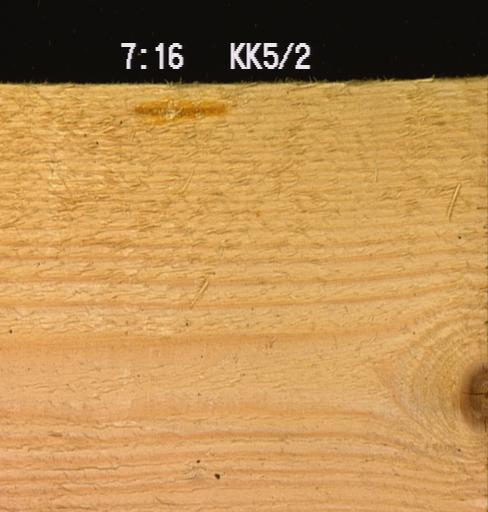sound_knot: (459, 360, 487, 433)
